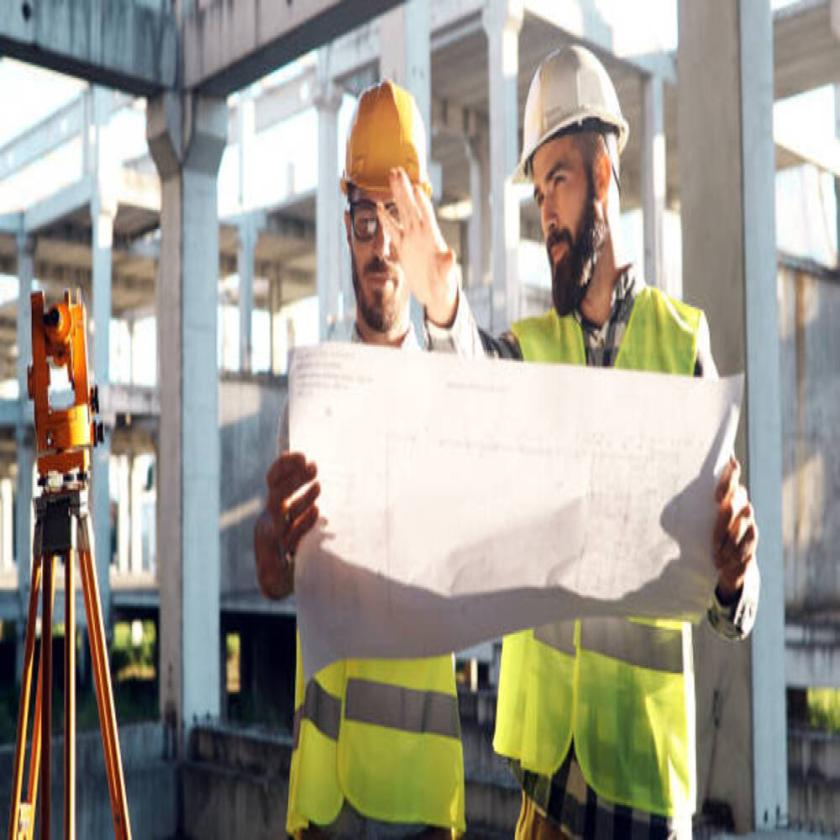Con_casco: (504, 42, 635, 336), (341, 77, 435, 344)
